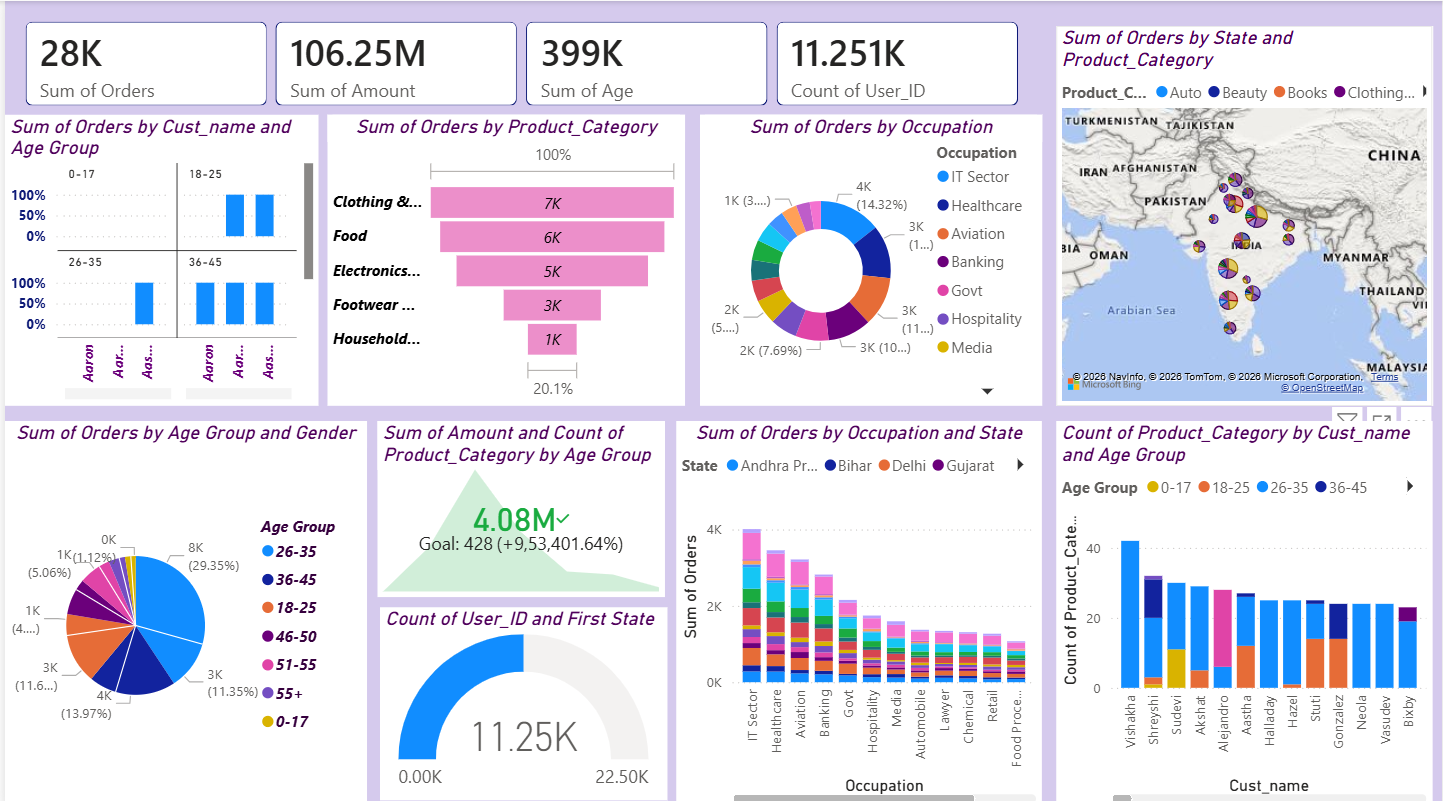

What the dashboard file says about the page in this screenshot:
{"tool":"powerbi","page":{"name":"Page 2","canvas":[1280,720],"ordinal":1},"visuals":[{"type":"hundredPercentStackedColumnChart","fields":{"Category":["Diwali Sales Data.Cust_name"],"Rows":["Diwali Sales Data.Age Group"],"Y":["Sum(Diwali Sales Data.Orders)"]},"box":[0,101.2,279.1,259.3],"z":0},{"type":"funnel","fields":{"Category":["Diwali Sales Data.Product_Category","Diwali Sales Data.Gender","Diwali Sales Data.State"],"Y":["Sum(Diwali Sales Data.Orders)"]},"box":[287.2,101.2,318.6,259.3],"z":1000},{"type":"map","fields":{"Category":["Diwali Sales Data.State"],"Size":["Sum(Diwali Sales Data.Orders)"],"Series":["Diwali Sales Data.Product_Category"]},"box":[926.7,21.4,344.1,338.2],"z":2000},{"type":"pieChart","fields":{"Category":["Diwali Sales Data.Age Group"],"Series":["Diwali Sales Data.Gender"],"Y":["Sum(Diwali Sales Data.Orders)"]},"box":[0,374.4,322.1,345.3],"z":3000},{"type":"donutChart","fields":{"Category":["Diwali Sales Data.Occupation"],"Y":["Sum(Diwali Sales Data.Orders)"]},"box":[615.8,100.9,299,259.8],"z":4000},{"type":"kpi","fields":{"Indicator":["Sum(Diwali Sales Data.Amount)"],"Goal":["CountNonNull(Diwali Sales Data.Product_Category)"],"TrendLine":["Diwali Sales Data.Age Group"]},"box":[331.4,374.4,255.8,157],"z":5000},{"type":"gauge","fields":{"Y":["CountNonNull(Diwali Sales Data.User_ID)"]},"box":[333.7,539.5,255.8,172.1],"z":6000},{"type":"lineStackedColumnComboChart","fields":{"Category":["Diwali Sales Data.Occupation"],"Y":["Sum(Diwali Sales Data.Orders)"],"Series":["Diwali Sales Data.State"]},"box":[597.7,374.4,325.6,345.3],"z":7000},{"type":"columnChart","fields":{"Category":["Diwali Sales Data.Cust_name"],"Series":["Diwali Sales Data.Age Group"],"Y":["CountNonNull(Diwali Sales Data.Product_Category)"]},"box":[936,374.4,334.9,345.3],"z":8000},{"type":"cardVisual","fields":{"Data":["Sum(Diwali Sales Data.Orders)","Sum(Diwali Sales Data.Amount)","Sum(Diwali Sales Data.Age)","CountNonNull(Diwali Sales Data.User_ID)"]},"box":[0,0,923.3,111.6],"z":9000}]}

Visuals, with their boxes in screenshot pixels (x1, y1, x2, y2), scaled from the page's 1280x720 canvas onto the 1443x801 screenshot:
hundredPercentStackedColumnChart - Diwali Sales Data.Cust_name x Diwali Sales Data.Age Group: locate(0, 113, 315, 401)
funnel - Diwali Sales Data.Product_Category x Diwali Sales Data.Gender: locate(324, 113, 683, 401)
map - Diwali Sales Data.State x Sum(Diwali Sales Data.Orders): locate(1045, 24, 1433, 400)
pieChart - Diwali Sales Data.Age Group x Diwali Sales Data.Gender: locate(0, 417, 363, 800)
donutChart - Diwali Sales Data.Occupation x Sum(Diwali Sales Data.Orders): locate(694, 112, 1031, 401)
kpi - Sum(Diwali Sales Data.Amount) x CountNonNull(Diwali Sales Data.Product_Category): locate(374, 417, 662, 591)
gauge - CountNonNull(Diwali Sales Data.User_ID): locate(376, 600, 665, 792)
lineStackedColumnComboChart - Diwali Sales Data.Occupation x Sum(Diwali Sales Data.Orders): locate(674, 417, 1041, 800)
columnChart - Diwali Sales Data.Cust_name x Diwali Sales Data.Age Group: locate(1055, 417, 1433, 800)
cardVisual - Sum(Diwali Sales Data.Orders) x Sum(Diwali Sales Data.Amount): locate(0, 0, 1041, 124)
